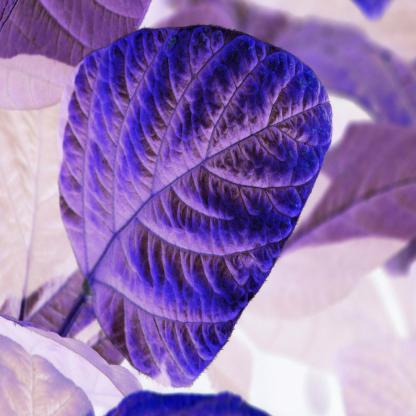soybean leaf: (56, 24, 333, 395)
